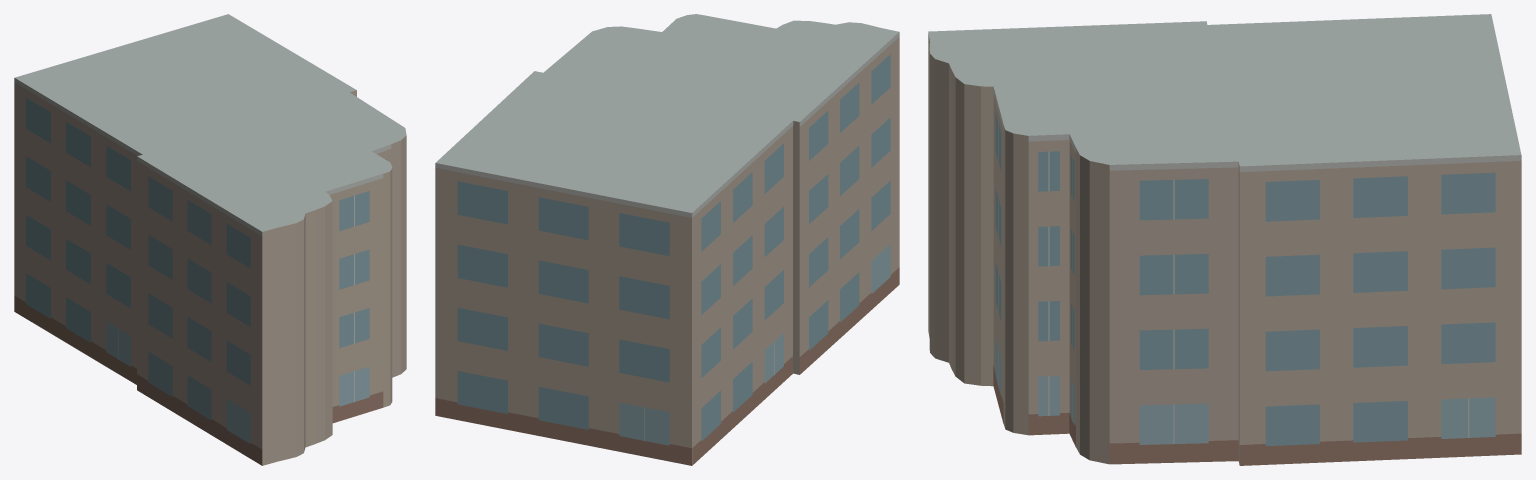
File: survey-upis-33030966.glb
3 renders of one model, left to right at view 1: azimuth 30°, elevation 25°; view 2: azimuth 150°, elevation 25°; view 3: azimuth 270°, elevation 25°, orthographic. The views are drawn at different scales.
Parts seen in each view (by area): view 1: survey-upis-33030966.tmp; view 2: survey-upis-33030966.tmp; view 3: survey-upis-33030966.tmp.
Boxes of the visible parts, x1,y1,x2,y2 form: survey-upis-33030966.tmp: (14,14,406,465); survey-upis-33030966.tmp: (435,14,899,465); survey-upis-33030966.tmp: (928,14,1521,465).
Bounding box in the file's own units: 13.88 × 12.7 × 22.81.
